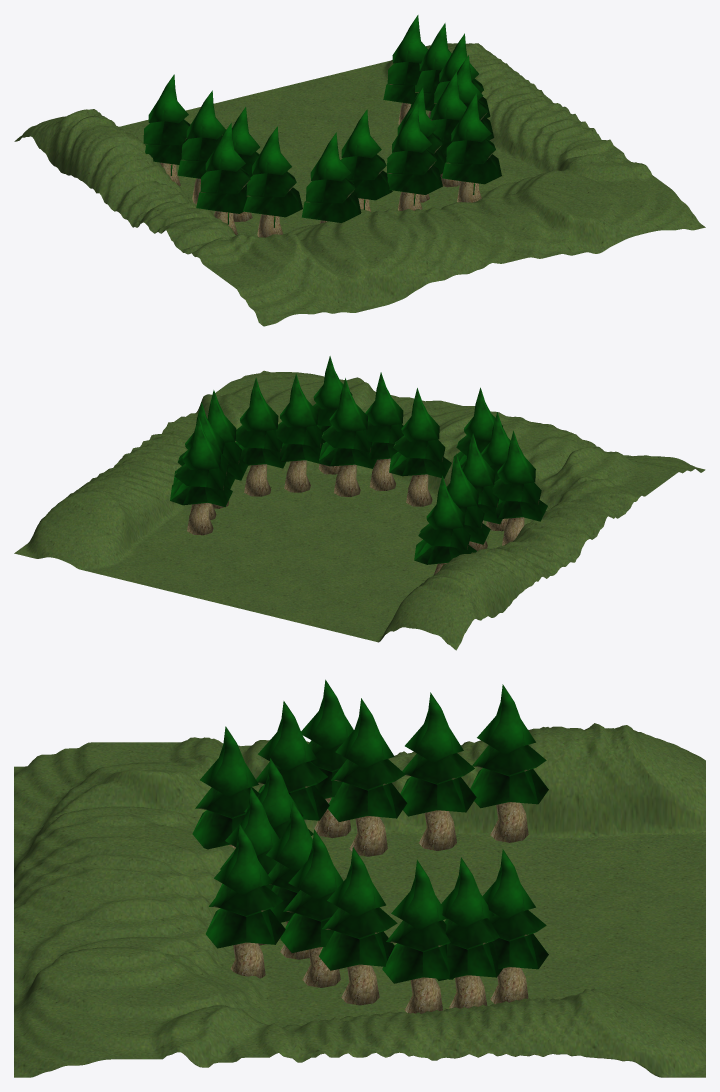
Rendered from ForestTheme.fbx.
3 renders of one model, top to bottom at view 1: azimuth 30°, elevation 25°; view 2: azimuth 150°, elevation 25°; view 3: azimuth 270°, elevation 25°, orthographic. The views are drawn at different scales.
Visible parts, largest first — view 1: ForestThemeMesh; view 2: ForestThemeMesh; view 3: ForestThemeMesh.
Boxes of the visible parts, <box> form: ForestThemeMesh: <box>14,15,705,326</box>; ForestThemeMesh: <box>14,356,705,650</box>; ForestThemeMesh: <box>14,679,705,1077</box>.
Bounding box in the file's own units: 51.09 × 12.39 × 50.
